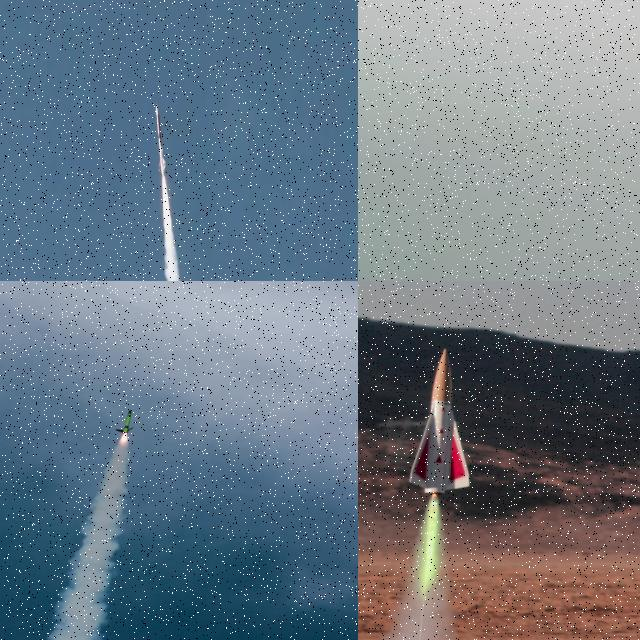Rocket: (407, 347, 473, 495), (156, 104, 166, 173), (115, 410, 134, 434)
